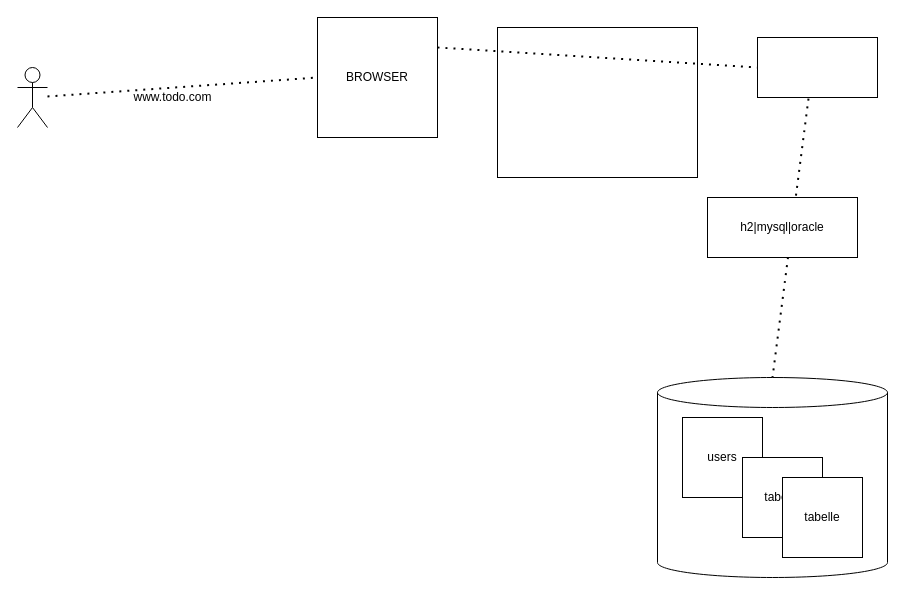
Image size: 905x595. Some labels were removed from this diagram. The centre of each missing label's shape, as x and y in pixels:
1, connect to www.todo.com 2. get del contenuto 3. render dell'html: [597,102]
Actor: [32,97]
SERVER: [817,67]
